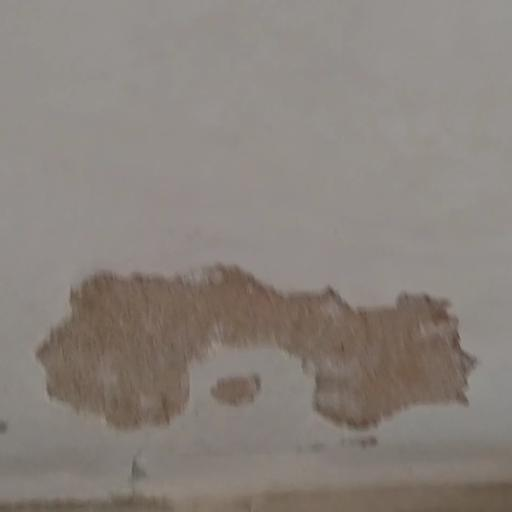peeling: (27, 260, 490, 448)
